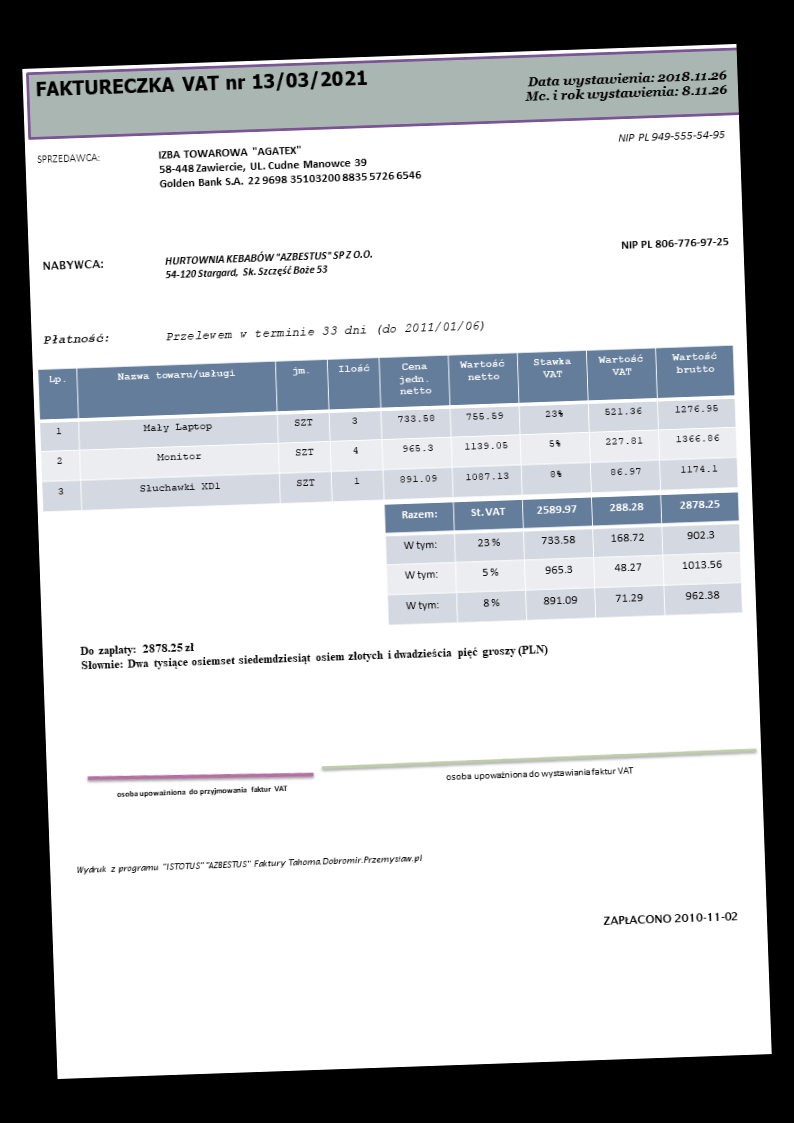Table: (36, 343, 739, 514), (383, 491, 743, 626)
TextBox: (77, 627, 551, 675), (156, 139, 423, 191), (33, 67, 369, 102), (74, 851, 425, 878), (165, 318, 487, 345), (520, 67, 728, 106), (163, 248, 375, 281), (443, 764, 634, 784), (114, 782, 288, 801), (600, 908, 738, 928), (618, 235, 729, 252), (616, 128, 726, 145), (41, 330, 111, 347), (35, 149, 101, 167), (40, 256, 104, 273)
